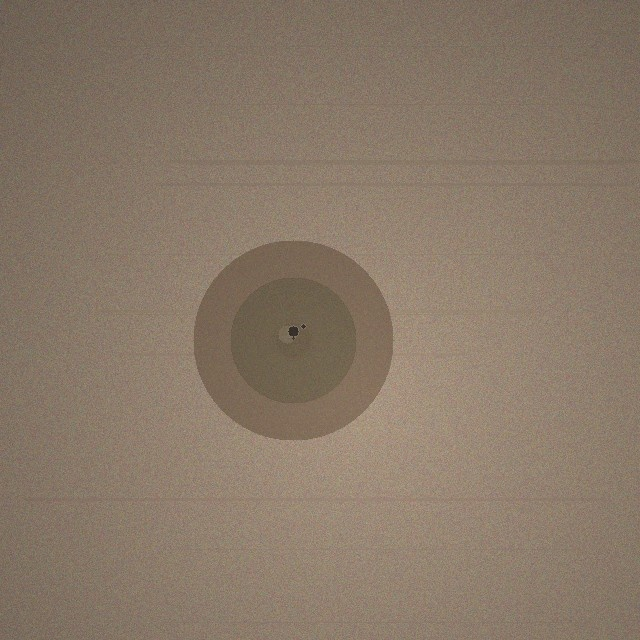shrinkage: (193, 240, 393, 440)
